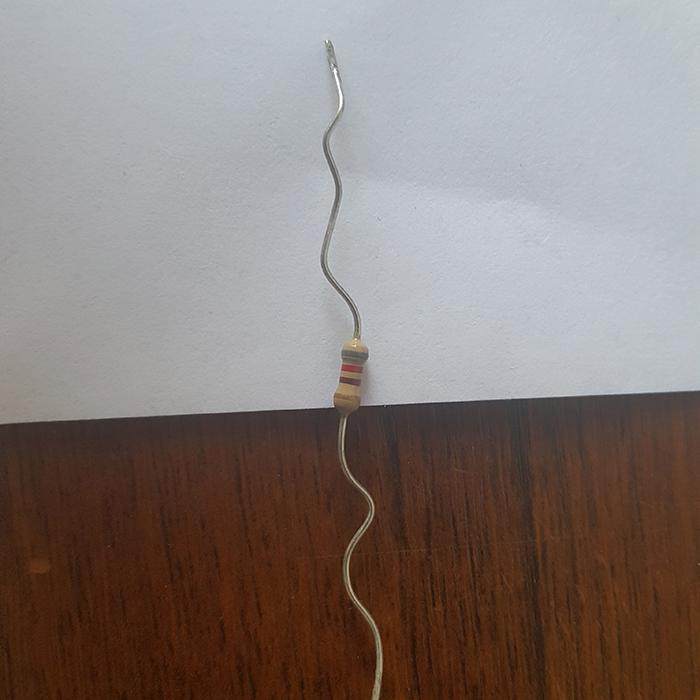resistor: (333, 336, 370, 413)
